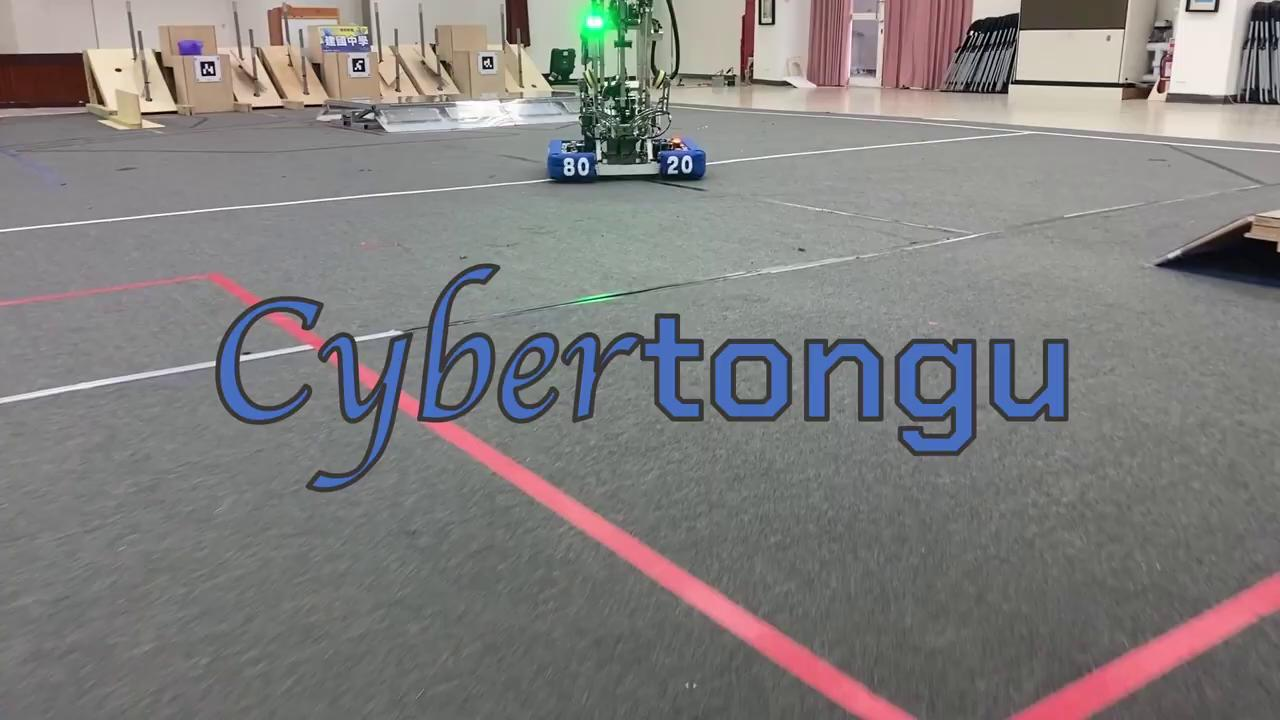robot: (547, 0, 707, 182)
